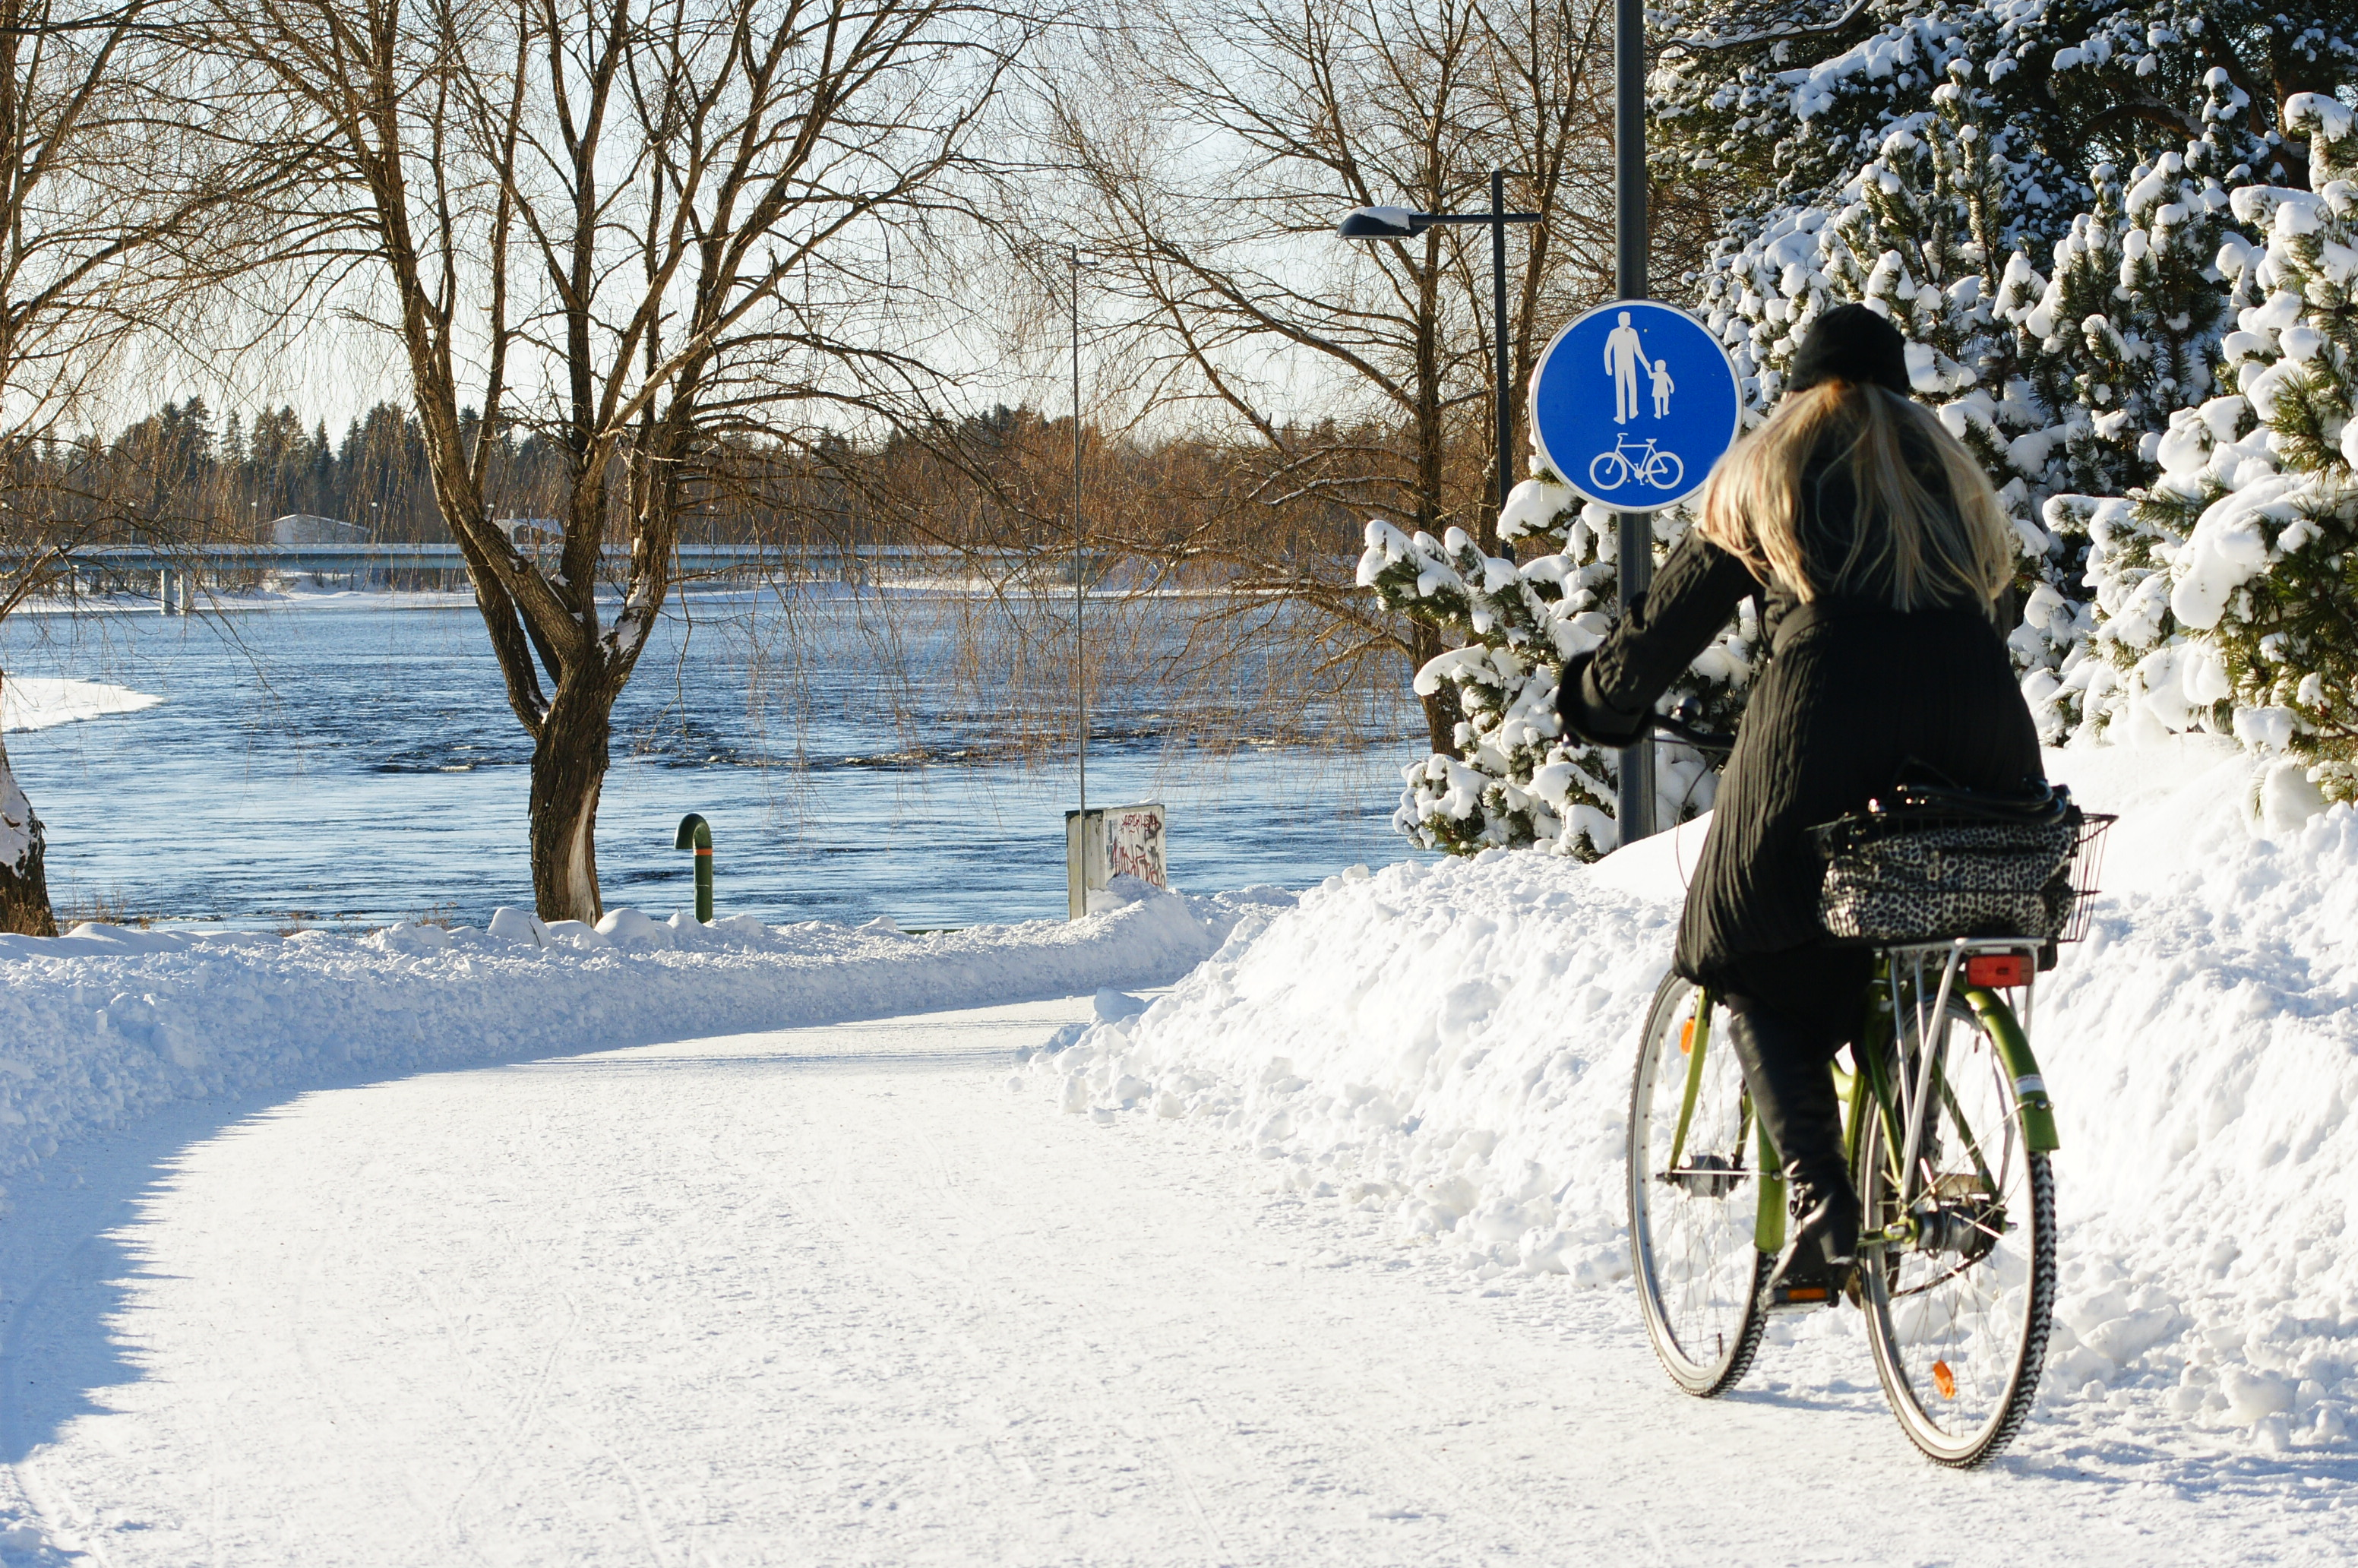commuter: (1543, 304, 2118, 1482)
